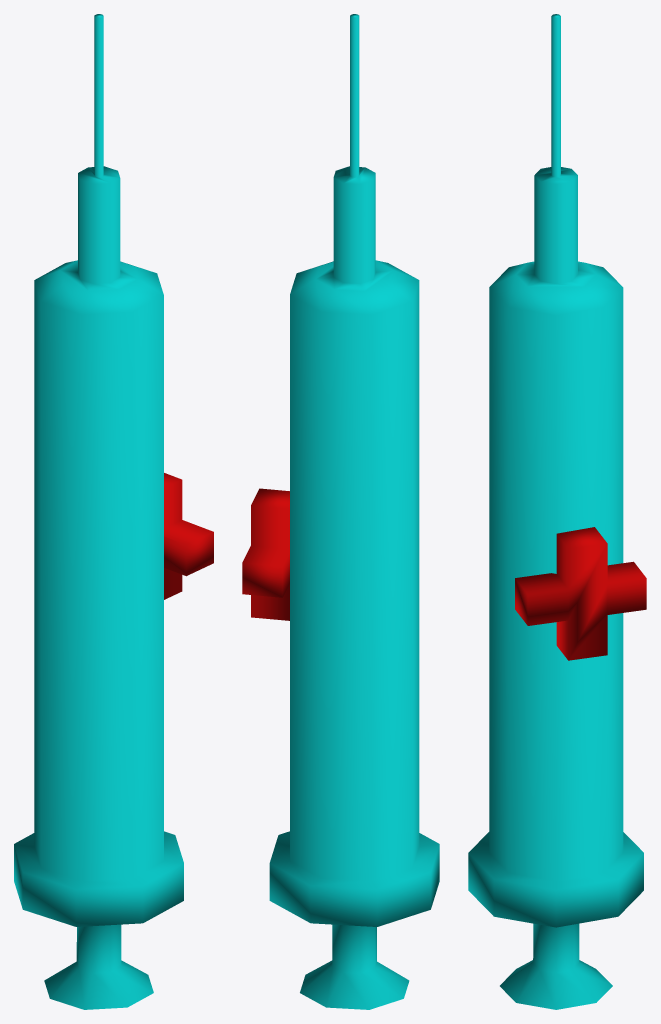
The model's file is powerinyeccion.obj.
The picture shows the model from 3 angles, left to right: view 1: azimuth 30°, elevation 25°; view 2: azimuth 150°, elevation 25°; view 3: azimuth 270°, elevation 25°; orthographic projection.
Parts seen in each view (by area): view 1: Mesh1 Cylinder G_728b_6ff6_202a_fbd3_1 G_9e99_a2d1_1458_8552_1 G, Mesh2 Cylinder G_728b_6ff6_202a_fbd3_1 G_9e99_a2d1_1458_8552_1 G; view 2: Mesh1 Cylinder G_728b_6ff6_202a_fbd3_1 G_9e99_a2d1_1458_8552_1 G, Mesh2 Cylinder G_728b_6ff6_202a_fbd3_1 G_9e99_a2d1_1458_8552_1 G; view 3: Mesh1 Cylinder G_728b_6ff6_202a_fbd3_1 G_9e99_a2d1_1458_8552_1 G, Mesh2 Cylinder G_728b_6ff6_202a_fbd3_1 G_9e99_a2d1_1458_8552_1 G.
Boxes of the visible parts, x1=… form: Mesh1 Cylinder G_728b_6ff6_202a_fbd3_1 G_9e99_a2d1_1458_8552_1 G: x1=14, y1=14, x2=183, y2=1009; Mesh2 Cylinder G_728b_6ff6_202a_fbd3_1 G_9e99_a2d1_1458_8552_1 G: x1=164, y1=473, x2=213, y2=599; Mesh1 Cylinder G_728b_6ff6_202a_fbd3_1 G_9e99_a2d1_1458_8552_1 G: x1=269, y1=14, x2=439, y2=1009; Mesh2 Cylinder G_728b_6ff6_202a_fbd3_1 G_9e99_a2d1_1458_8552_1 G: x1=242, y1=488, x2=289, y2=620; Mesh1 Cylinder G_728b_6ff6_202a_fbd3_1 G_9e99_a2d1_1458_8552_1 G: x1=468, y1=14, x2=643, y2=1009; Mesh2 Cylinder G_728b_6ff6_202a_fbd3_1 G_9e99_a2d1_1458_8552_1 G: x1=515, y1=527, x2=646, y2=660.
Size of the model in its own units: 543 by 2846 by 474.
